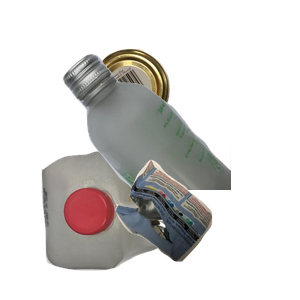glass: (60, 51, 300, 231)
metal: (86, 46, 248, 169)
plastic: (39, 149, 203, 300)
trash: (113, 157, 300, 300)
